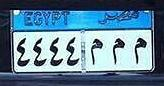4: (30, 35, 48, 69), (48, 34, 64, 68), (15, 36, 31, 70), (64, 36, 81, 67)
meem: (88, 34, 104, 67), (110, 38, 126, 67), (132, 35, 147, 65)
